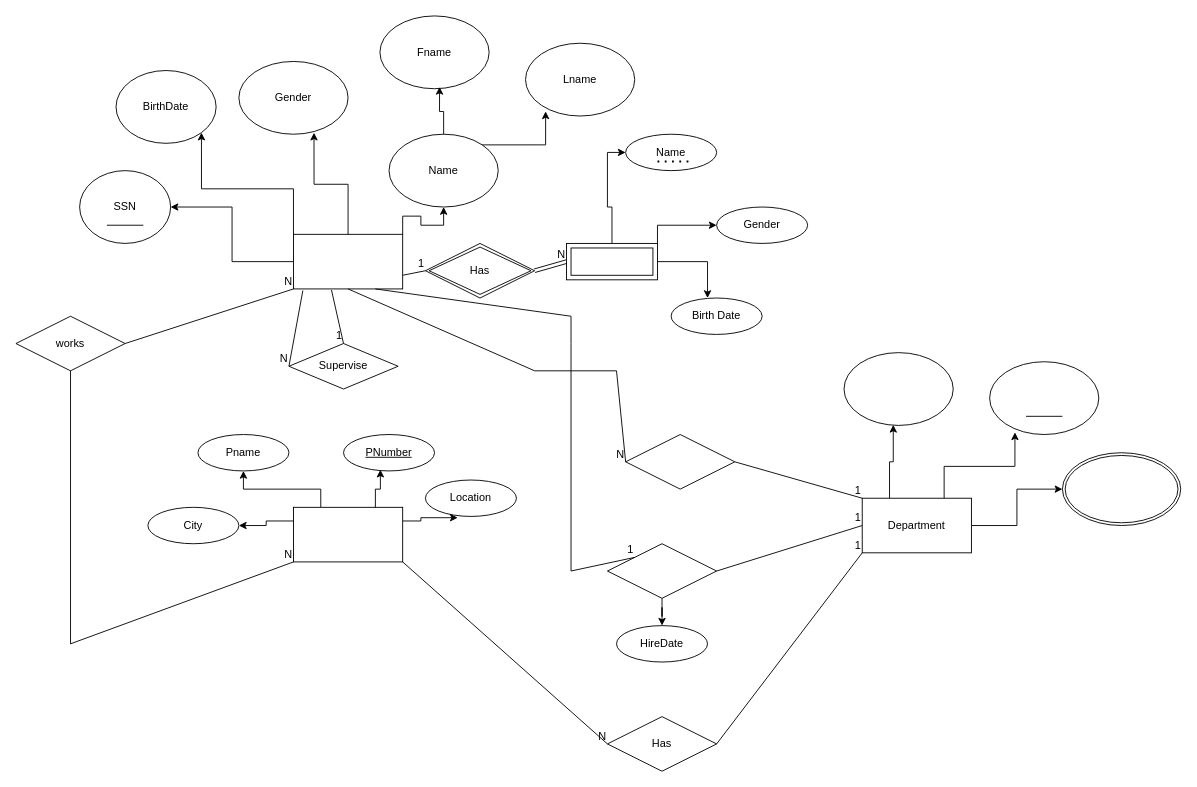
Some shapes in this 1197 by 787 pixel diagram are drawn without their labels. The box of each missing label's shape, as (x1, y1, x2, y2) in pixels:
Dependent: (566, 243, 657, 280)
Dname: (843, 352, 953, 425)
DNUM: (989, 361, 1099, 435)
Employee: (293, 233, 403, 289)
locations: (1062, 452, 1181, 526)
Manage: (607, 543, 717, 598)
Project: (293, 506, 403, 562)
work: (625, 434, 735, 489)
